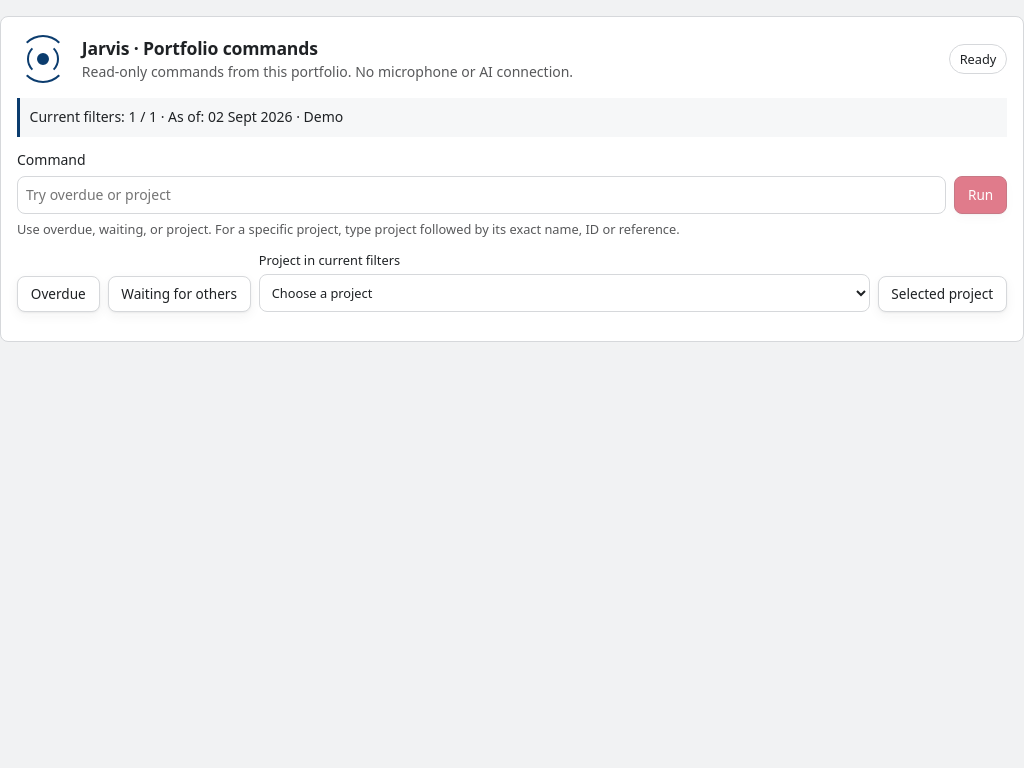
Test: Jarvis panel integration › disables readback when only a remote voice exists
Click the button "Overdue".
click(58, 294)  # box [17,276,100,312]
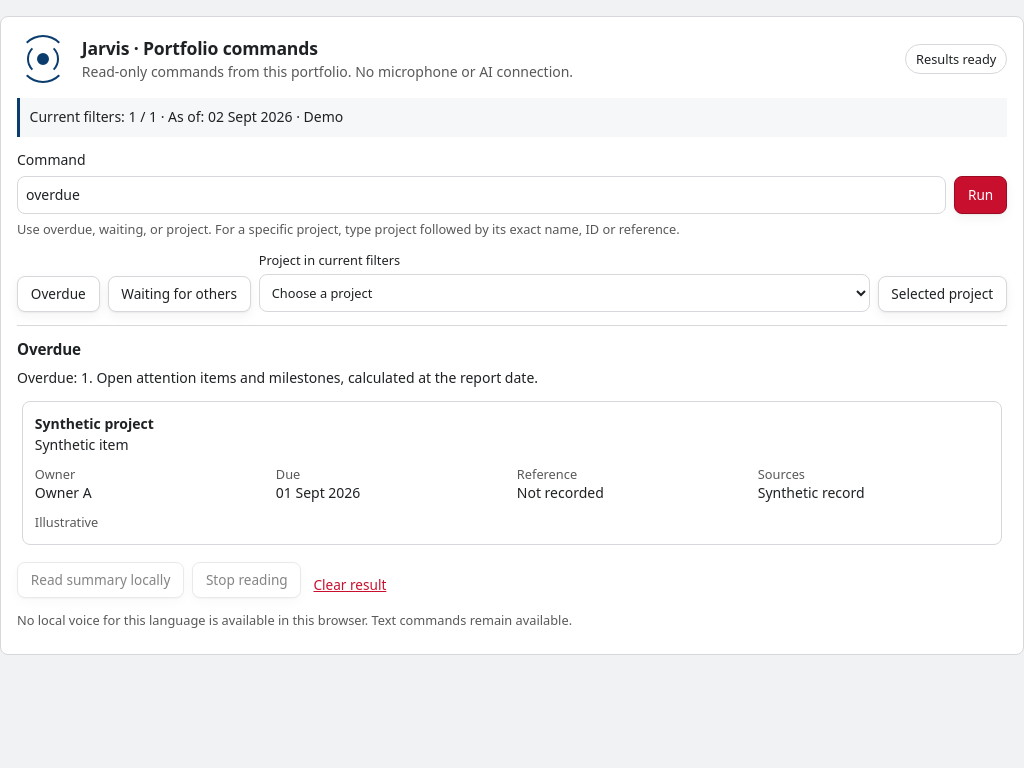
expect the button "Read summary locally" is disabled: met, box [17,562,184,598]
